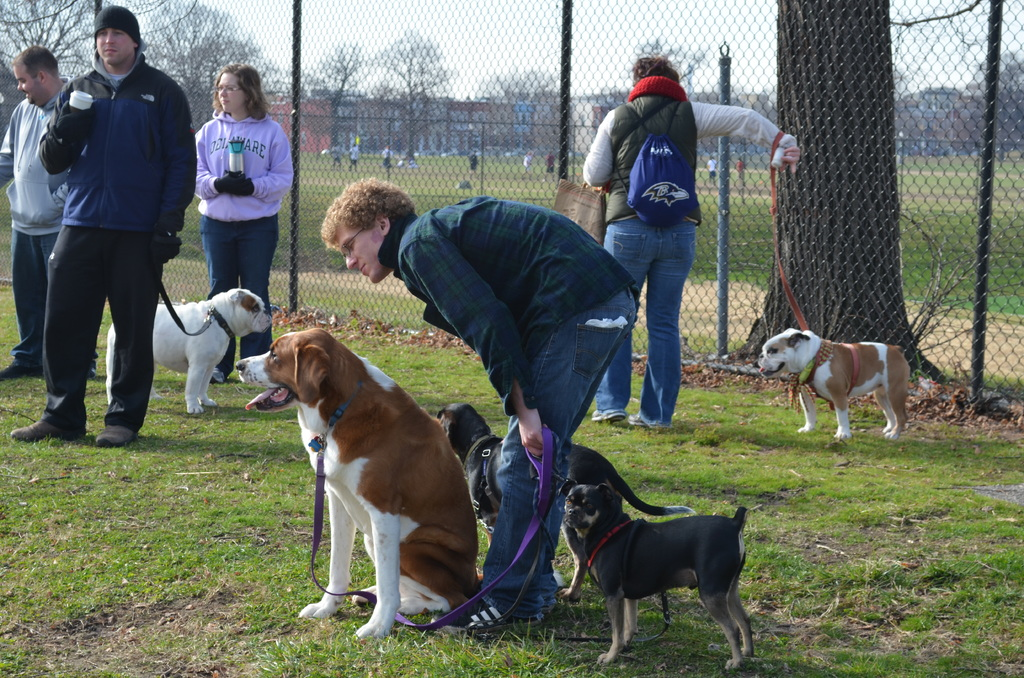Person: (320, 171, 638, 634), (11, 0, 200, 441), (581, 55, 796, 434), (191, 60, 298, 382), (0, 42, 70, 379), (322, 139, 583, 176)
